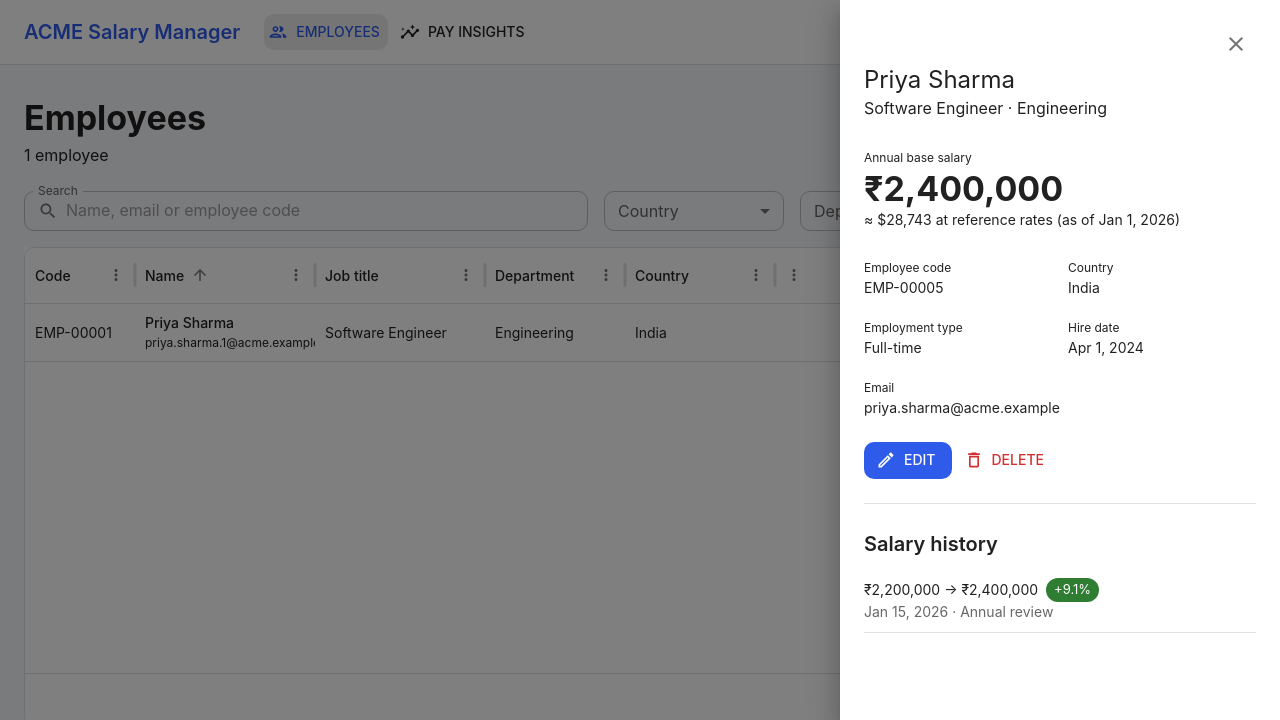
Test: managing employees › deletes an employee after confirmation
Step 1. Click the button "Delete" → (1006, 460), box [960,442,1052,479]
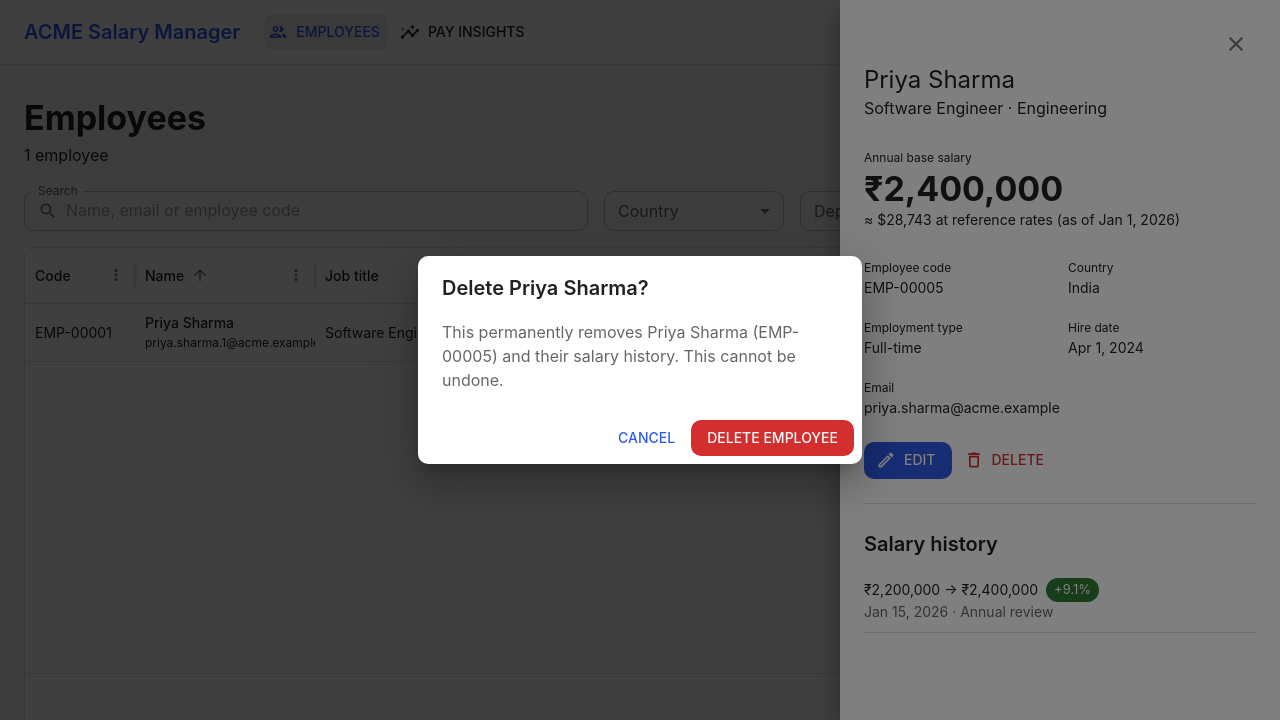
Step 2. Click the button "Delete employee" → (773, 438), box [691,420,854,456]
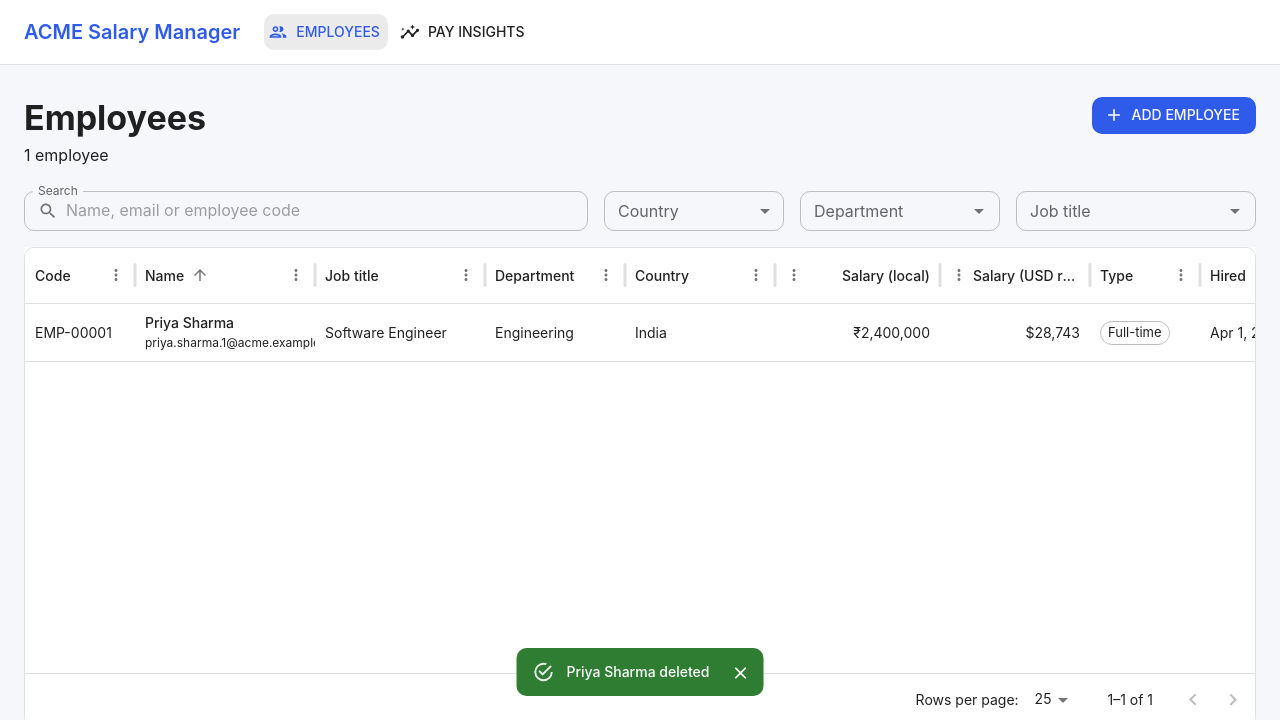
Now the text "Priya Sharma deleted" is shown, box [566,663,710,680]
